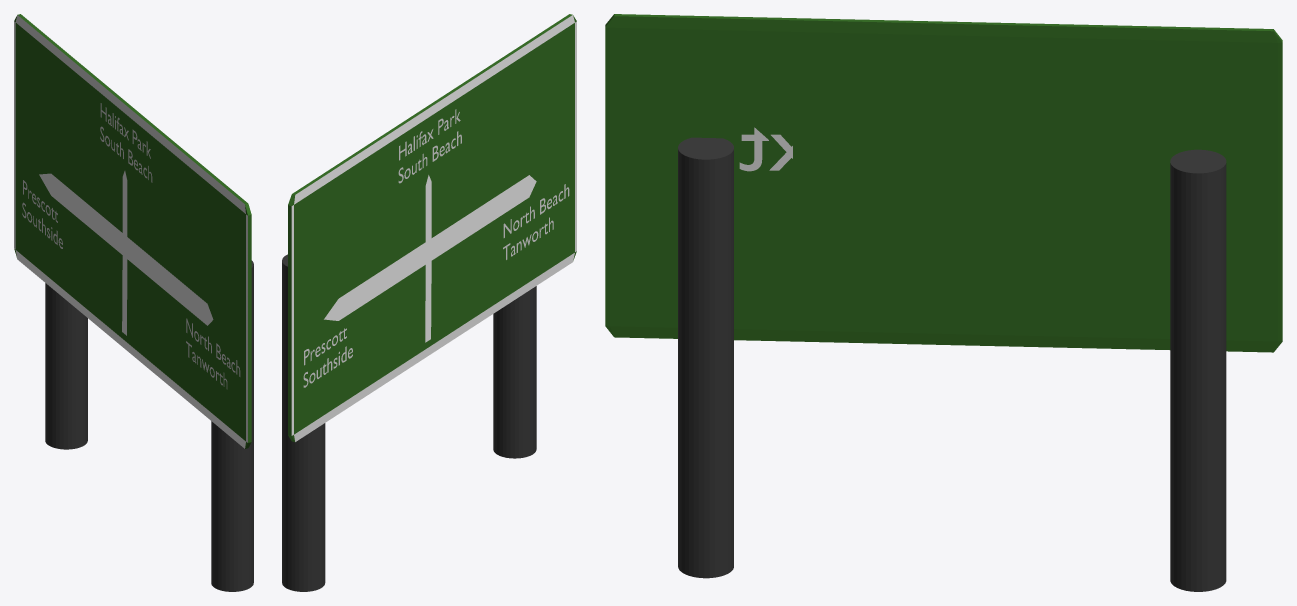
The model's file is HalifaxParkJunctionSign1.fbx.
The picture shows the model from 3 angles, left to right: view 1: azimuth 30°, elevation 25°; view 2: azimuth 150°, elevation 25°; view 3: azimuth 270°, elevation 25°; orthographic projection. The views are drawn at different scales.
Visible parts, largest first — view 1: Cube.030, Cylinder.001, Cylinder.002, DirectionPlaneM, Text.001, Text.004, Text.002; view 2: Cube.030, Cylinder.002, Cylinder.001, DirectionPlaneM, Text.002, Text.001, Text.004; view 3: Cube.030, Cylinder.002, Cylinder.001, Text.
Part boxes in pixels (left/top/right/bottom): Cube.030: left=14, top=14, right=251, bottom=448; Cylinder.001: left=211, top=260, right=253, bottom=591; Cylinder.002: left=45, top=283, right=87, bottom=449; DirectionPlaneM: left=39, top=171, right=213, bottom=335; Text.001: left=100, top=103, right=150, bottom=158; Text.004: left=186, top=318, right=240, bottom=376; Text.002: left=100, top=126, right=152, bottom=182; Cube.030: left=288, top=14, right=576, bottom=442; Cylinder.002: left=282, top=254, right=325, bottom=591; Cylinder.001: left=493, top=286, right=536, bottom=458; DirectionPlaneM: left=324, top=175, right=536, bottom=342; Text.002: left=398, top=131, right=461, bottom=183; Text.001: left=399, top=109, right=460, bottom=160; Text.004: left=503, top=184, right=569, bottom=237; Cube.030: left=605, top=14, right=1282, bottom=352; Cylinder.002: left=1170, top=149, right=1226, bottom=591; Cylinder.001: left=678, top=137, right=733, bottom=578; Text: left=739, top=127, right=792, bottom=171.
Bounding box in the file's own units: 108 × 670 × 765.
